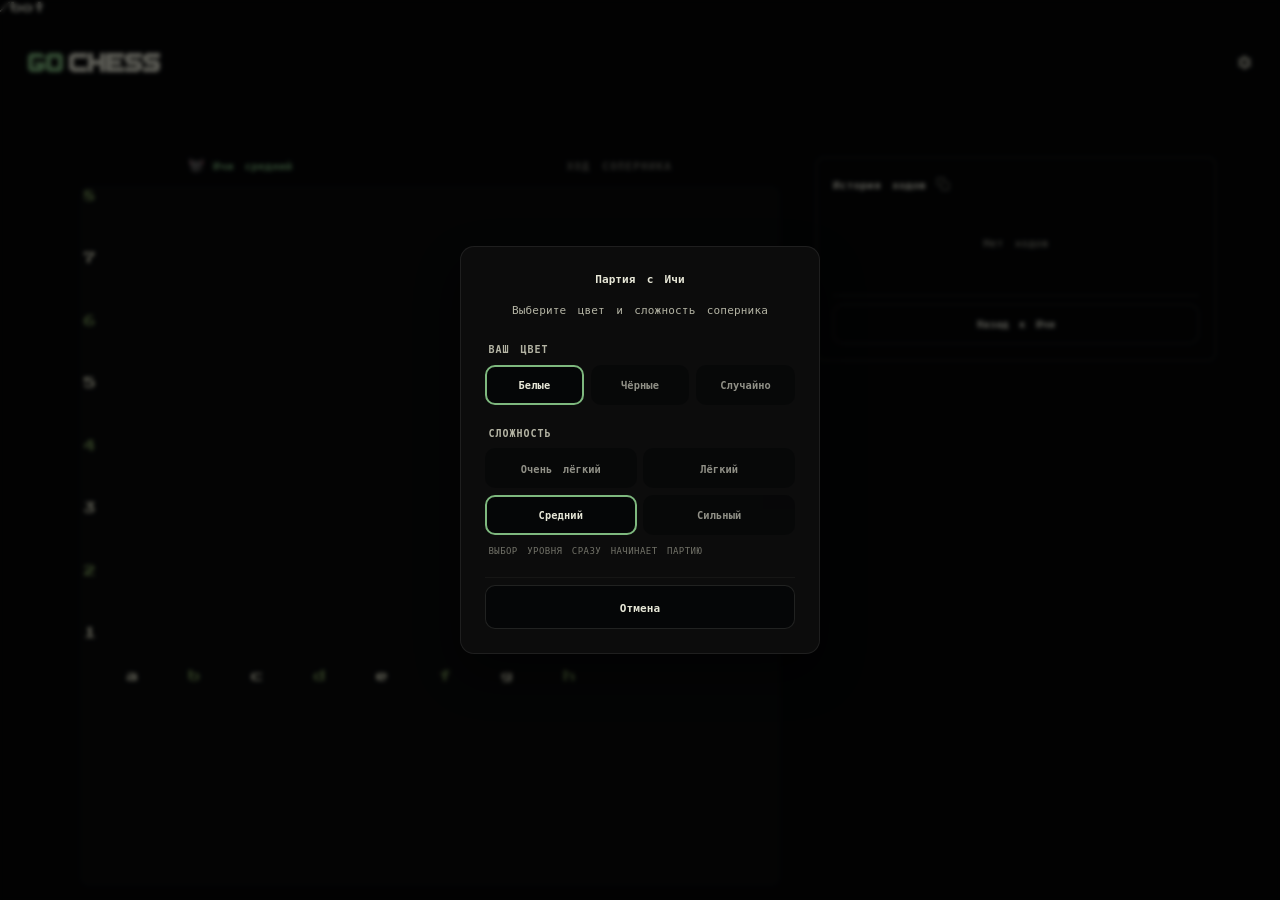
BotPage — навигация › «Отмена» в настройке партии возвращает в хаб Ичи, а не в главное лобби
# Раздел «Игра» живёт под /ichi, поэтому отмена ведёт в /ichi.
Click the button "Отмена". click: point(640, 607)
box: x1=485 y1=585 x2=795 y2=629
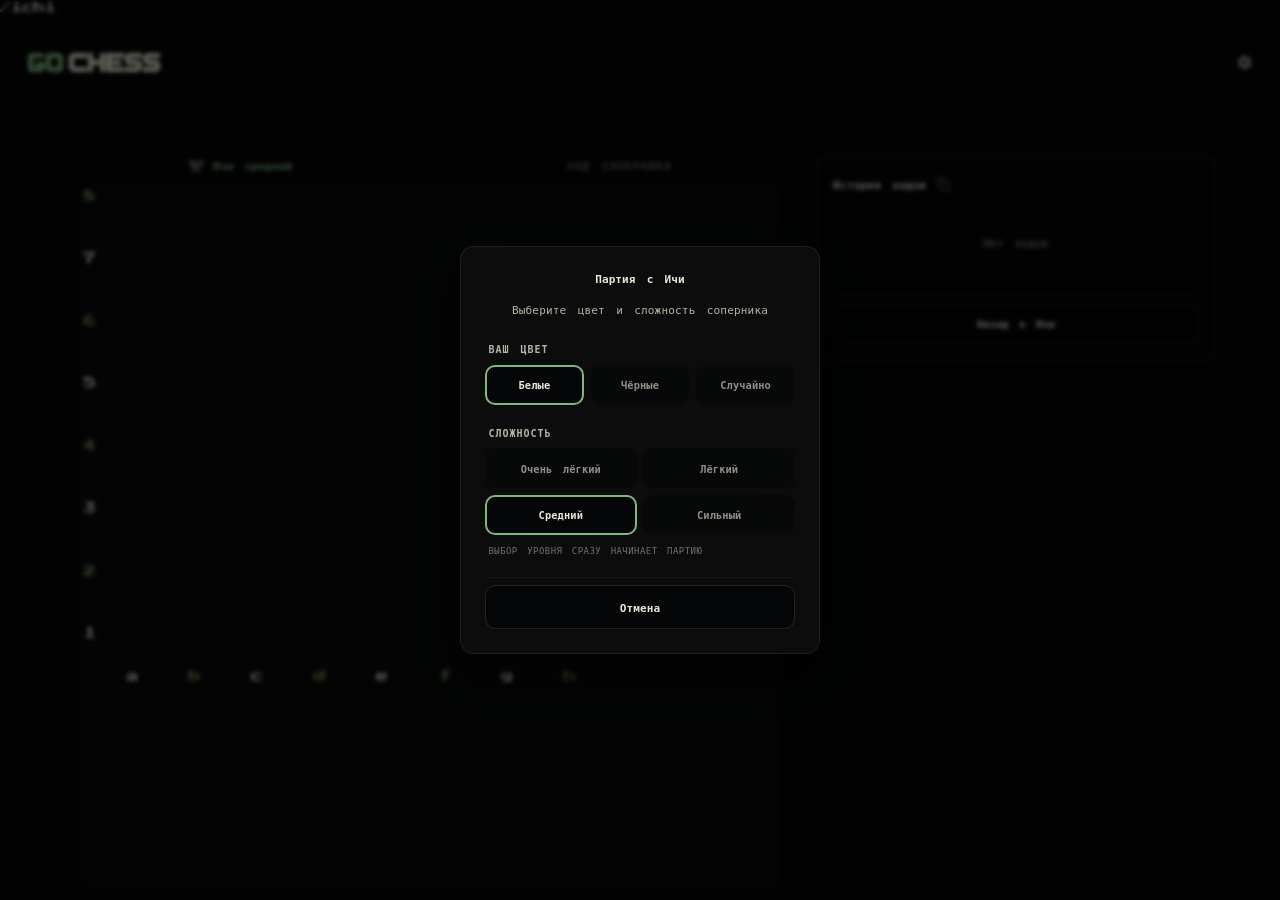
Expected: the text with test id "location" reads "/ichi", x1=0 y1=2 x2=56 y2=13
